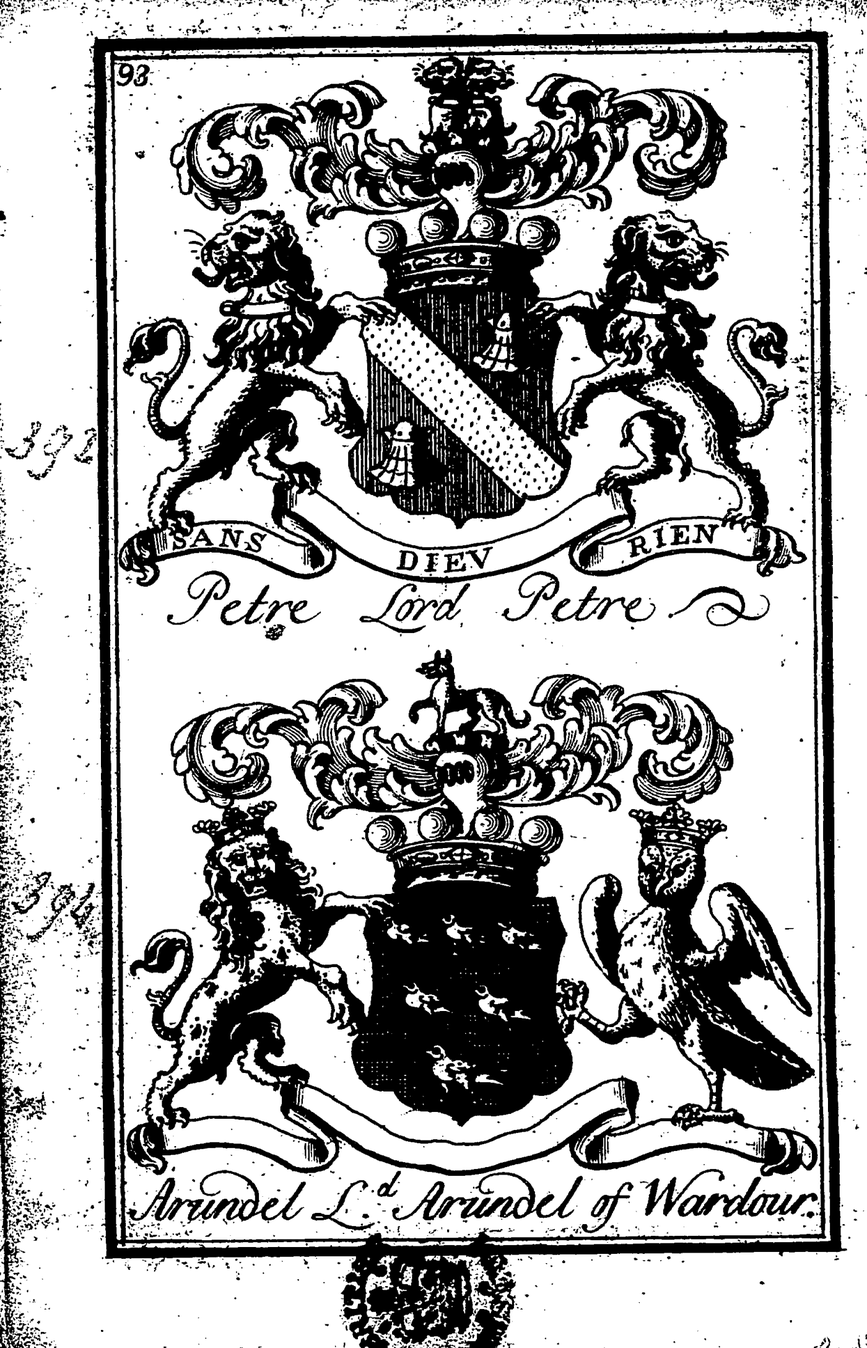coat_of_arms: (118, 650, 827, 1225), (126, 63, 799, 650)
